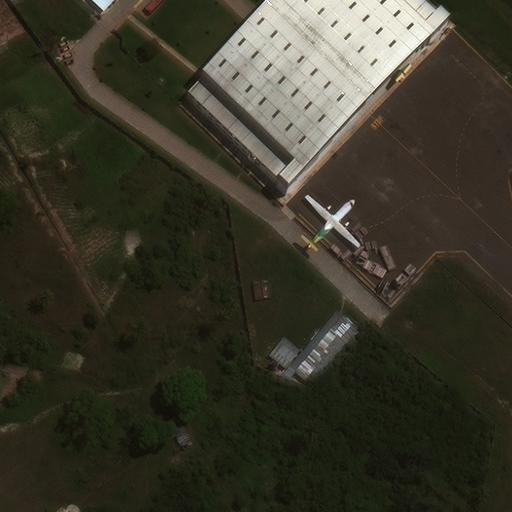Medium Civil Transport: (307, 194, 361, 248)
